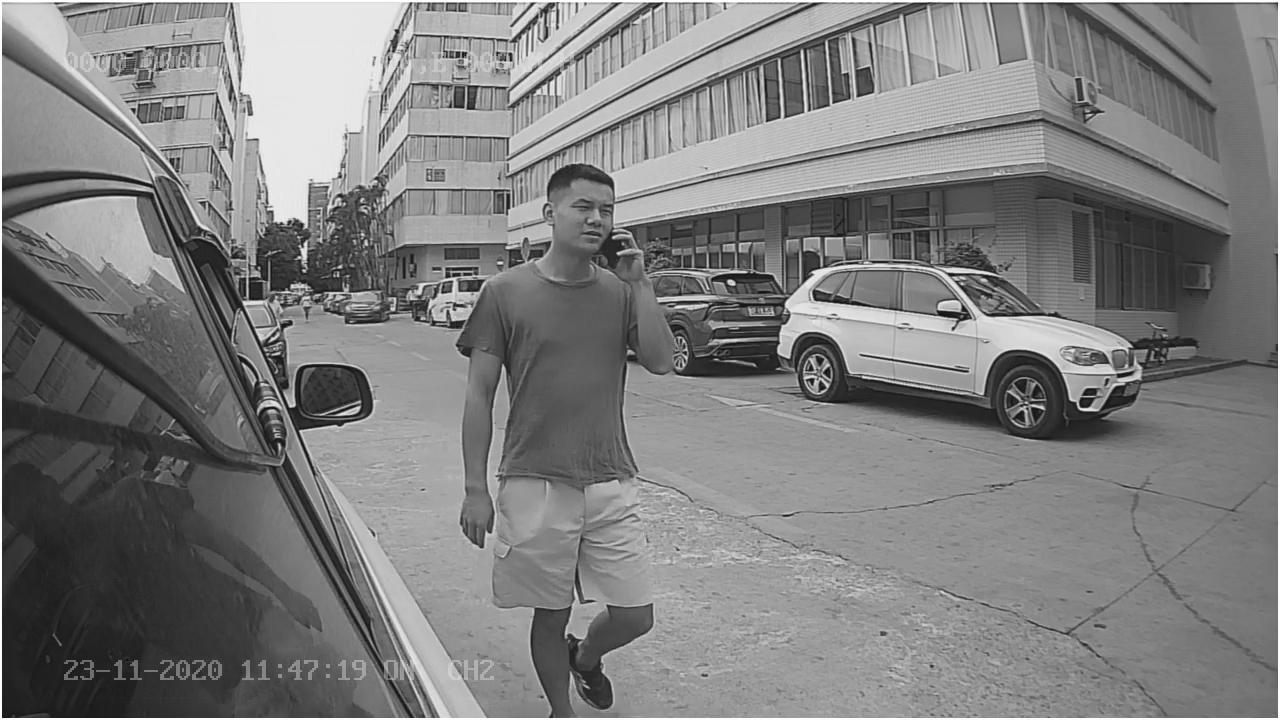person: (457, 129, 685, 561)
